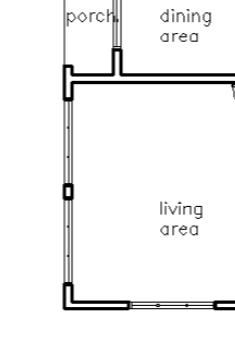window: (125, 292, 219, 319), (57, 194, 81, 287), (58, 95, 80, 192)
